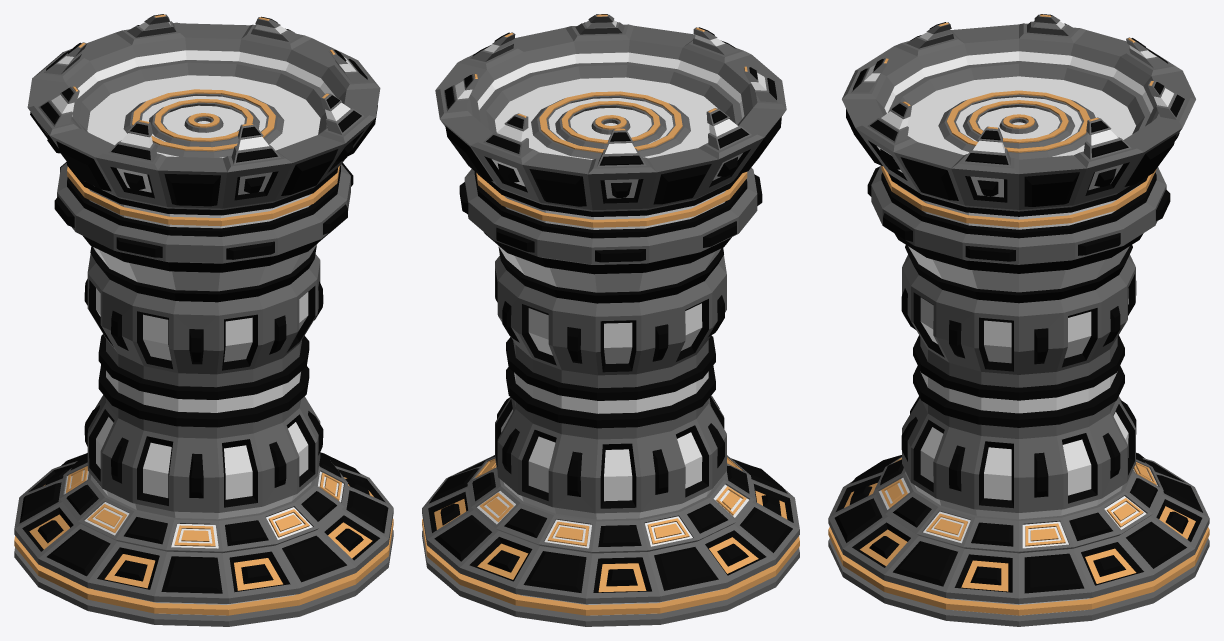
File: Support_boule.fbx
3 renders of one model, left to right at view 1: azimuth 30°, elevation 25°; view 2: azimuth 150°, elevation 25°; view 3: azimuth 270°, elevation 25°, orthographic.
Parts seen in each view (by area): view 1: Support; view 2: Support; view 3: Support.
Part boxes in pixels (x1,y1,x2,y2): Support: (14,14,393,626); Support: (422,14,799,626); Support: (828,14,1209,626).
Size of the model in its own units: 269 by 370 by 269.
